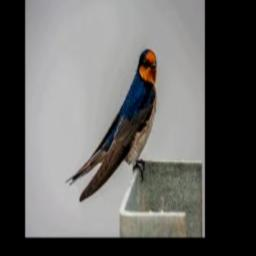Swallow: (65, 49, 156, 202)
